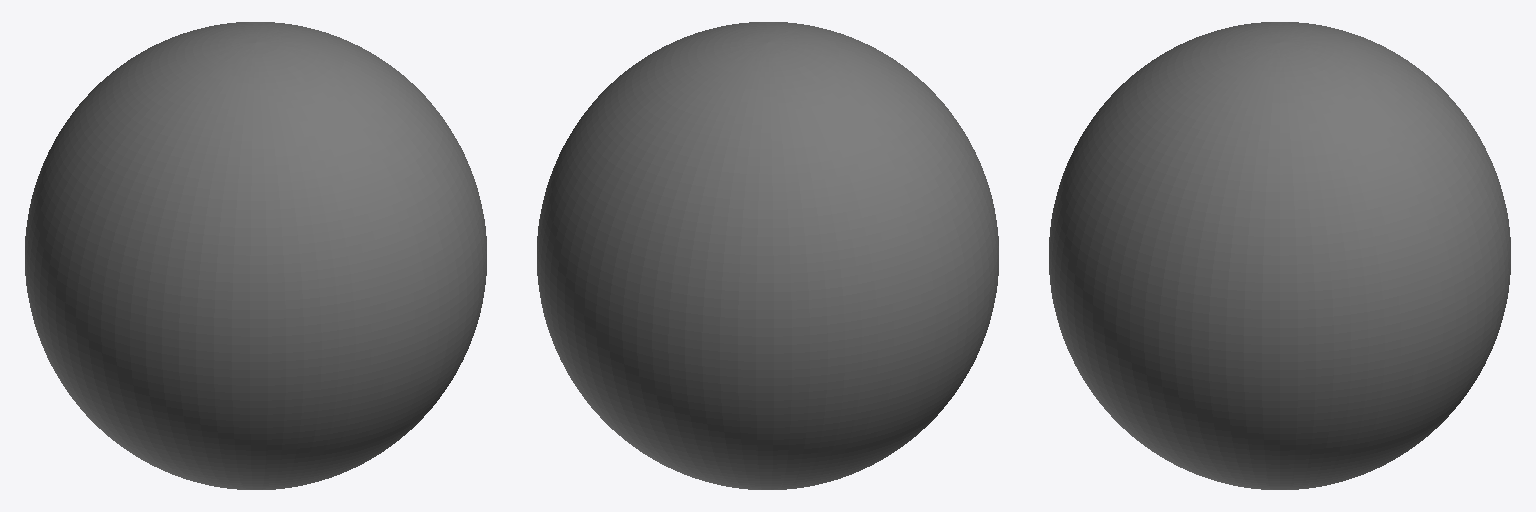
Rendered from marker.obj.
3 renders of one model, left to right at view 1: azimuth 30°, elevation 25°; view 2: azimuth 150°, elevation 25°; view 3: azimuth 270°, elevation 25°, orthographic.
Parts seen in each view (by area): view 1: marker_pSphere1; view 2: marker_pSphere1; view 3: marker_pSphere1.
Part boxes in pixels (left/top/right/bottom): marker_pSphere1: left=25, top=22, right=486, bottom=489; marker_pSphere1: left=537, top=22, right=998, bottom=489; marker_pSphere1: left=1049, top=22, right=1510, bottom=489.
Bounding box in the file's own units: 5.89 × 5.99 × 5.89.